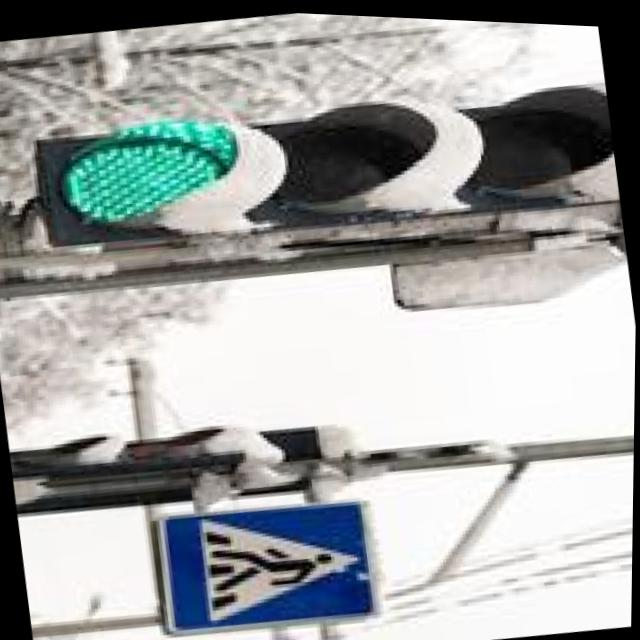green_light: (0, 76, 291, 289)
